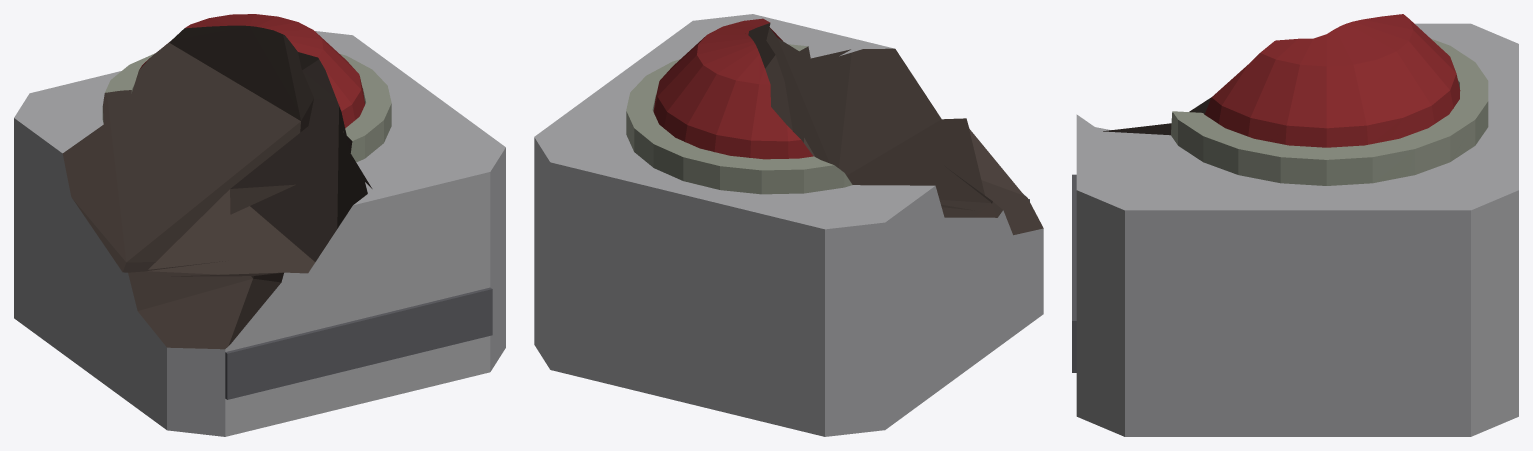
Rendered from vge_d_gunnersubpersonacore.obj.
3 views of the same model, side by side, from view 1: azimuth 30°, elevation 25°; view 2: azimuth 150°, elevation 25°; view 3: azimuth 270°, elevation 25° (orthographic). The views are drawn at different scales.
Parts seen in each view (by area): view 1: vge_d_gunnersubpersonacore; view 2: vge_d_gunnersubpersonacore; view 3: vge_d_gunnersubpersonacore.
Boxes of the visible parts, bbox=[...] form: vge_d_gunnersubpersonacore: bbox=[14, 14, 505, 436]; vge_d_gunnersubpersonacore: bbox=[534, 14, 1043, 436]; vge_d_gunnersubpersonacore: bbox=[1072, 14, 1518, 436].
Size of the model in its own units: 0.92 by 0.7487 by 0.93.
